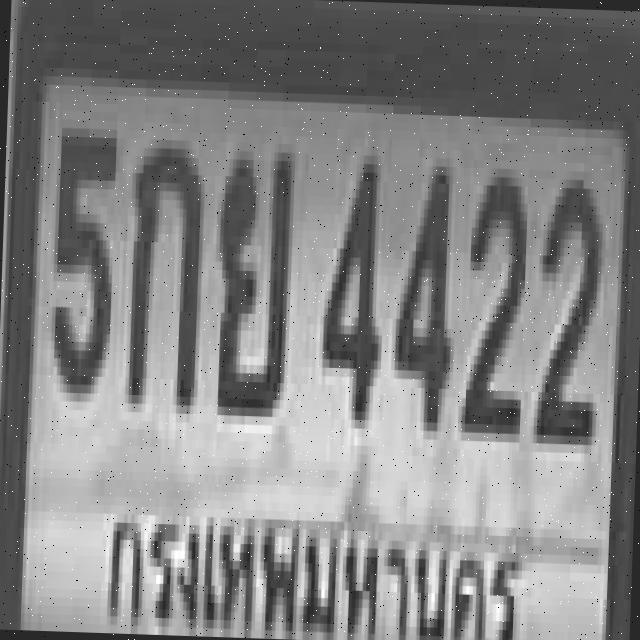10GorGai: (124, 130, 202, 405)
2: (531, 170, 599, 436), (461, 163, 525, 429)
4: (389, 156, 453, 422), (317, 146, 381, 412)
43YorYak: (210, 142, 292, 408)
5: (46, 119, 114, 385)
Bangkok: (99, 484, 527, 640)
